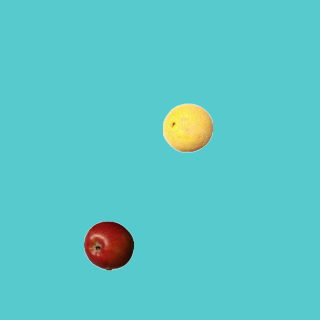Apple Braeburn: (83, 220, 133, 270)
Cantaloupe 1: (162, 102, 212, 152)
